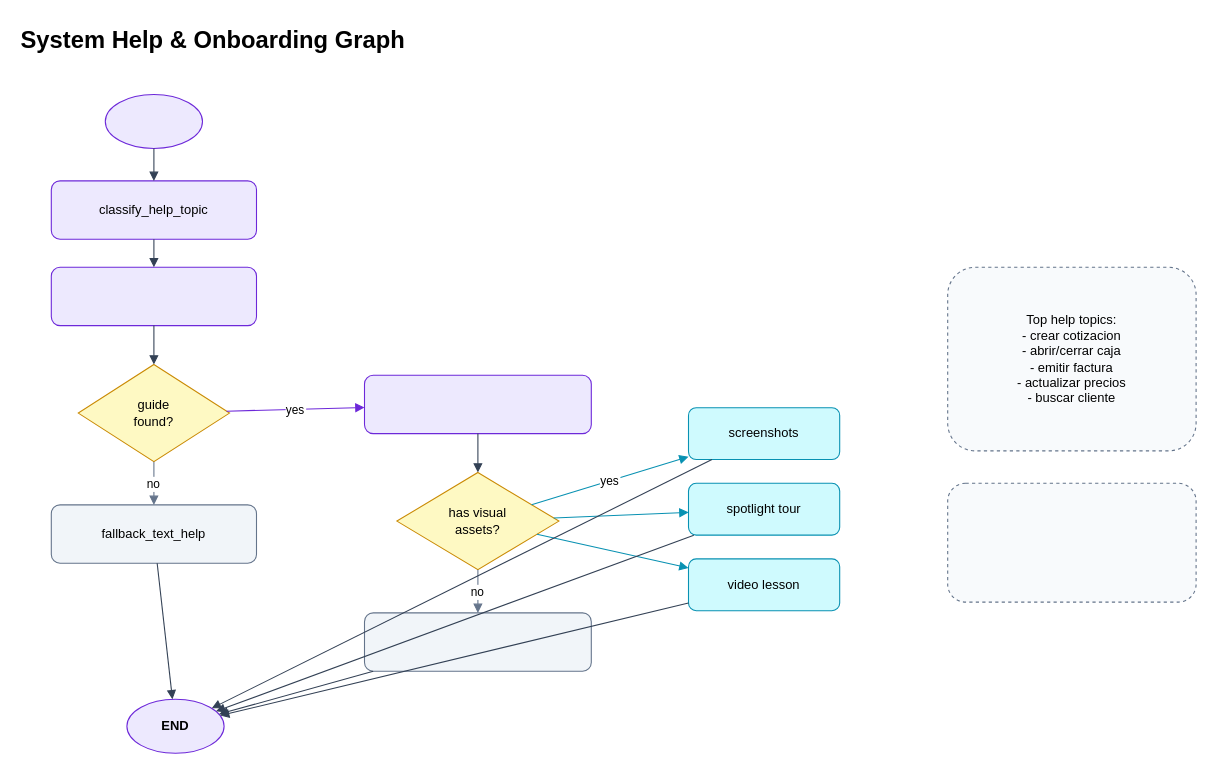
Image size: 1215x772. Some labels were removed from this diagram. The box of each missing label's shape, as (x1, y1, x2, y2) in pixels:
build_help_response: (363, 374, 591, 434)
locate_guide: (50, 266, 256, 326)
Recomendado Fase 1: spotlight tour + screenshots Fase 2: videos: (947, 482, 1196, 602)
START: (104, 93, 202, 148)
text_steps_only: (363, 612, 591, 671)
